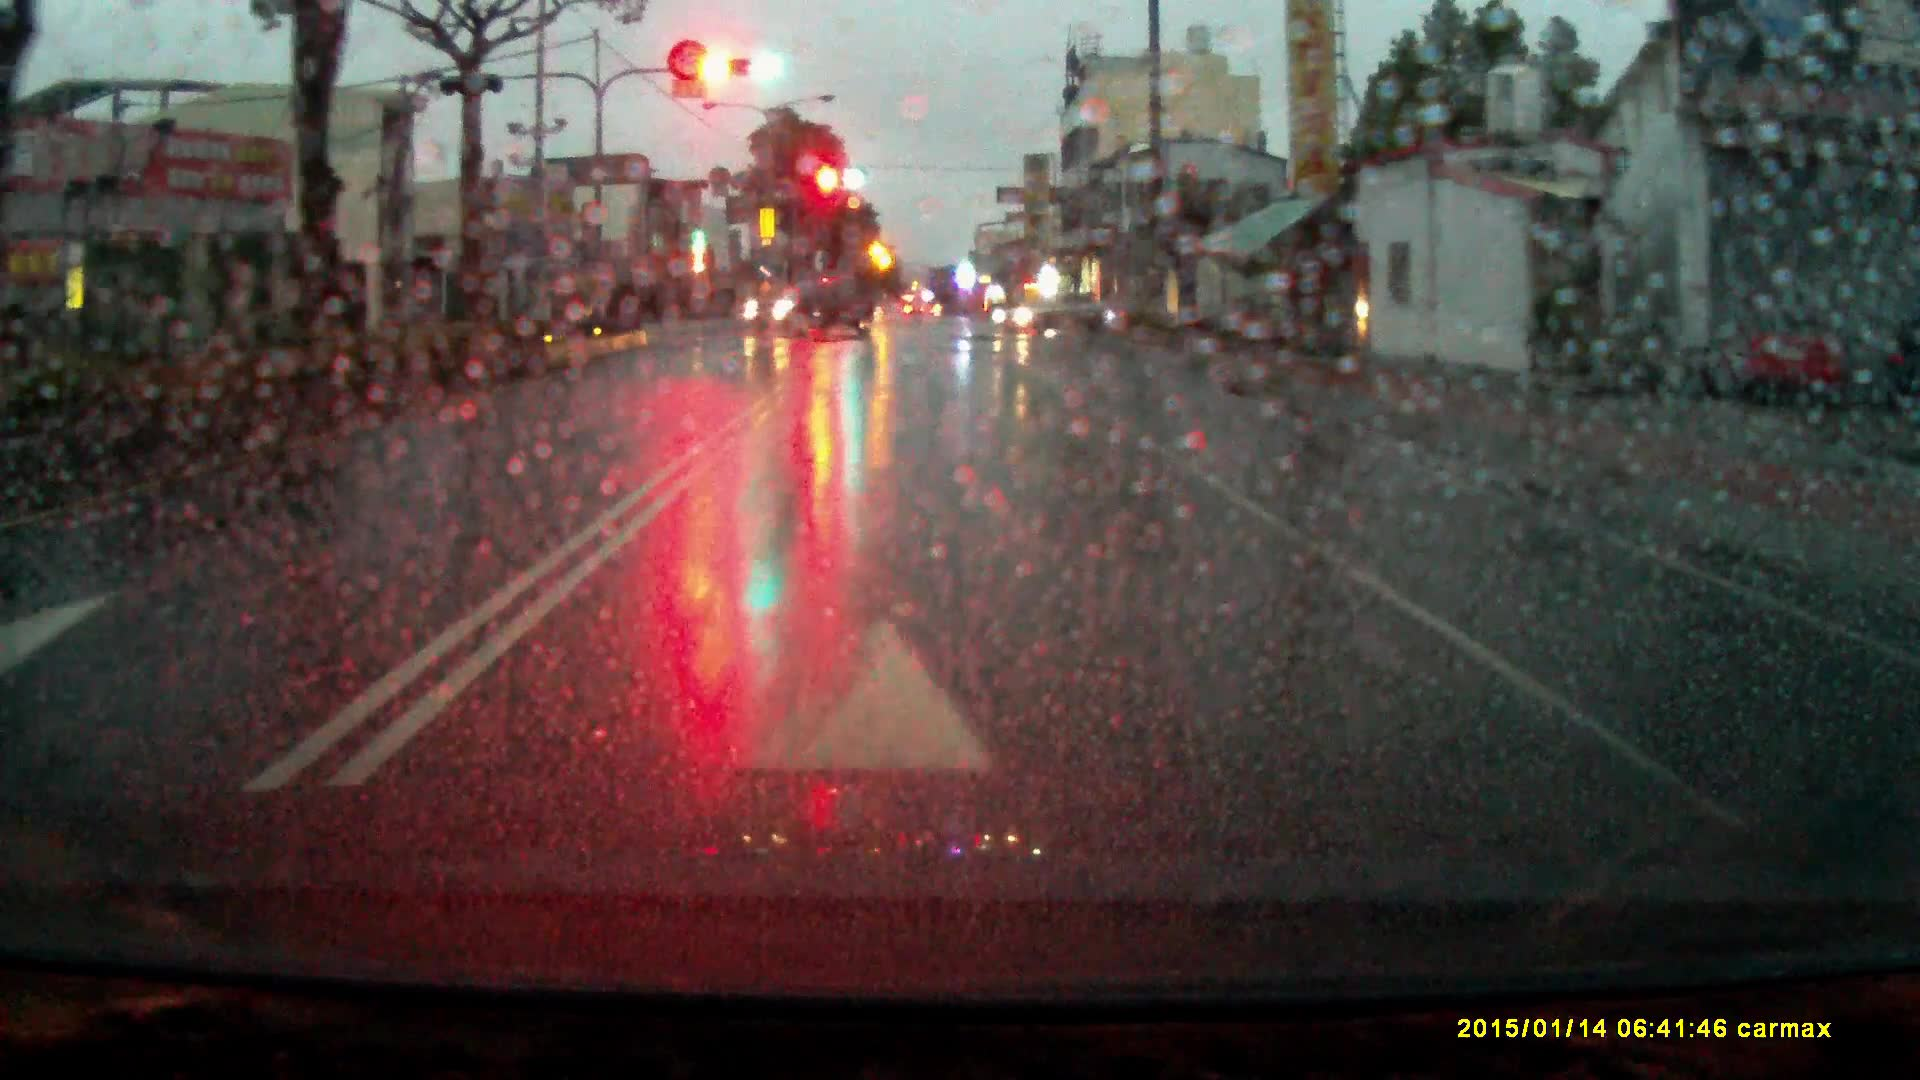vehicle: (740, 274, 884, 345), (994, 295, 1117, 342)
